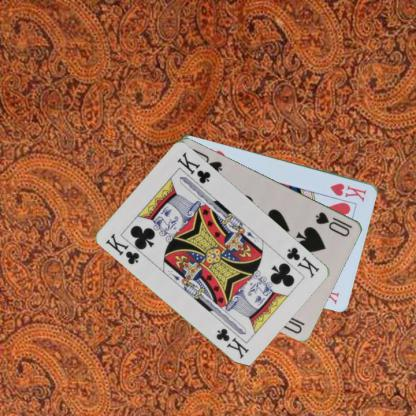10s: (313, 209, 351, 238)
Kc: (284, 244, 322, 280), (103, 231, 141, 266)
Kh: (328, 180, 368, 202)
